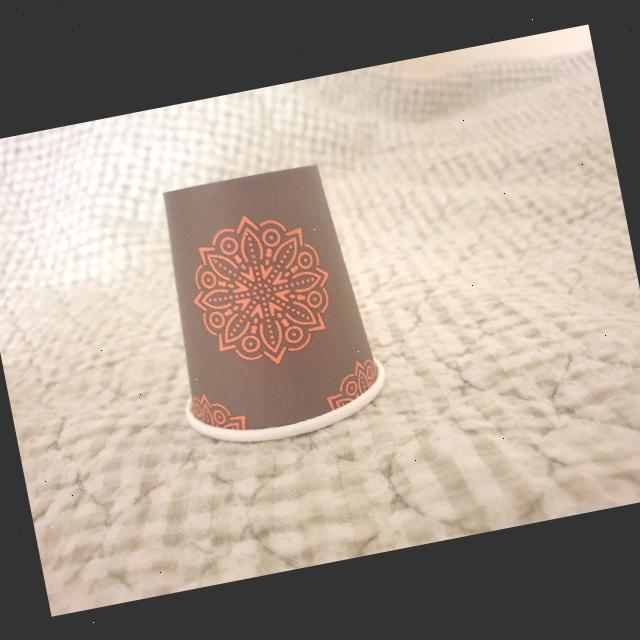trash: (137, 149, 397, 459)
